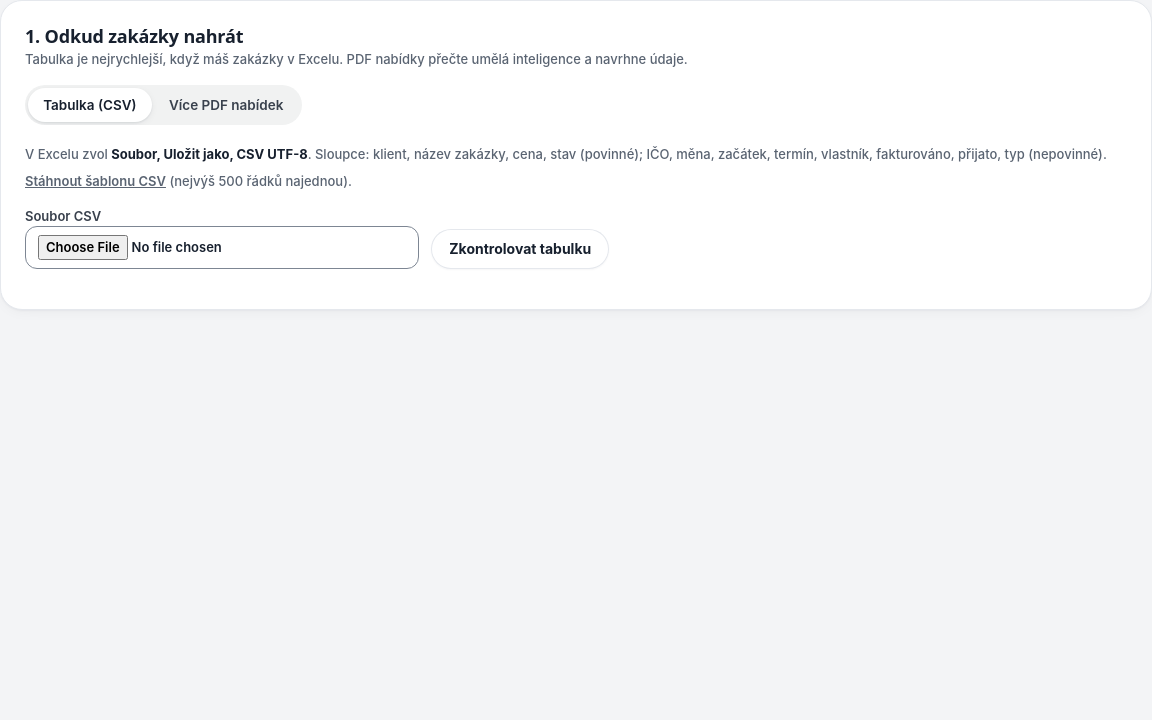
Test case: BulkImport: zdroje › potvrzení po jednom nemá tlačítko Zpět a sdílí dávku; „Potvrdit vše“ má vlastní dávku i Zpět jen za sebe
Later steps or results of the test are not shown.
Click the button "Zkontrolovat tabulku". click: (520, 249)
box: 431,229 -> 609,269
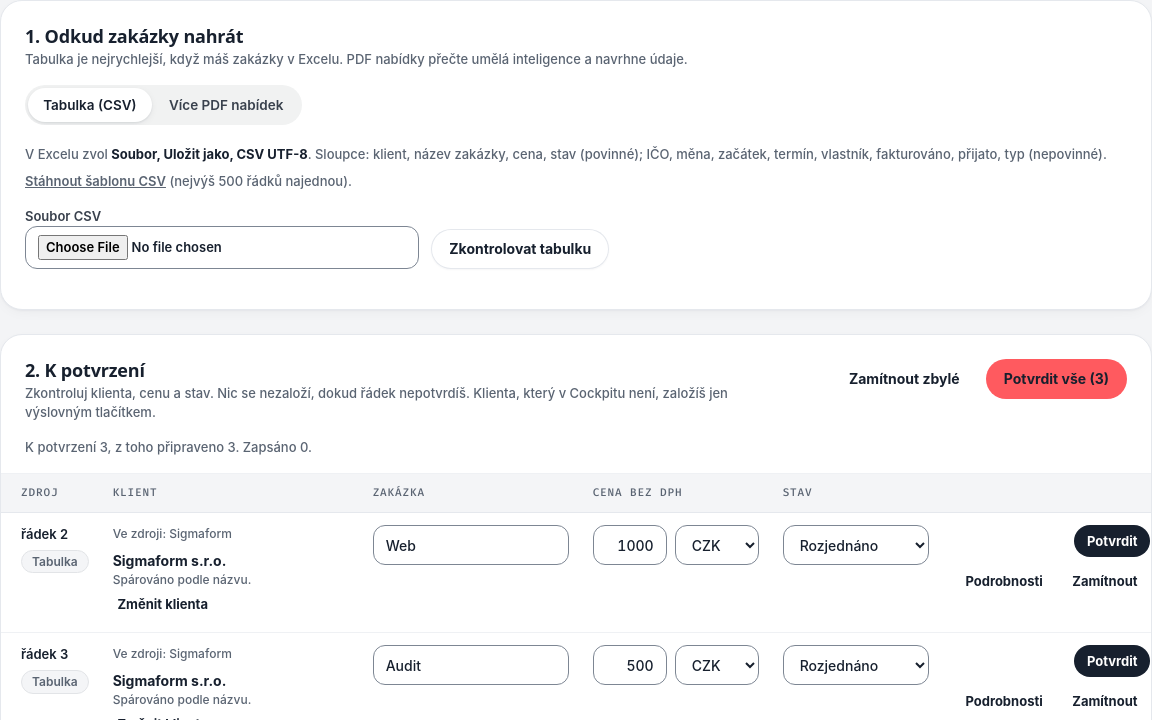
Click the button with aria-label "Potvrdit zakázku Web". click: (1112, 541)
box: 1074,525 -> 1150,557
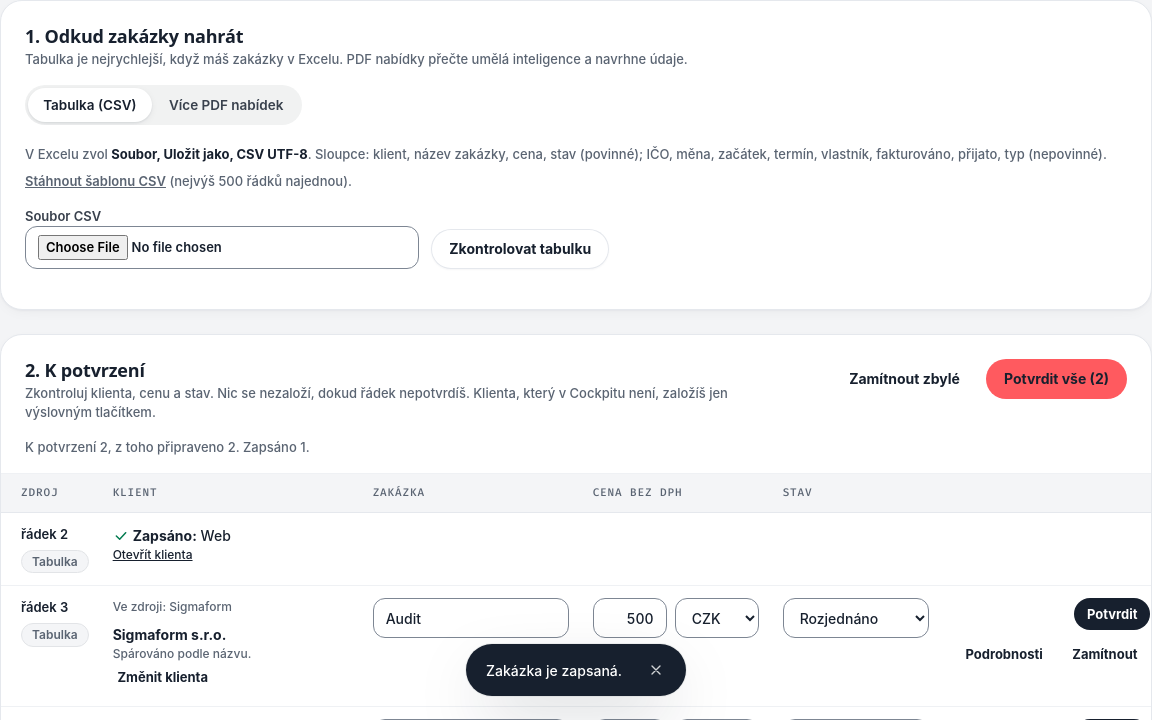
Now the text "Zakázka je zapsaná." is shown, box 486,662 -> 622,678
